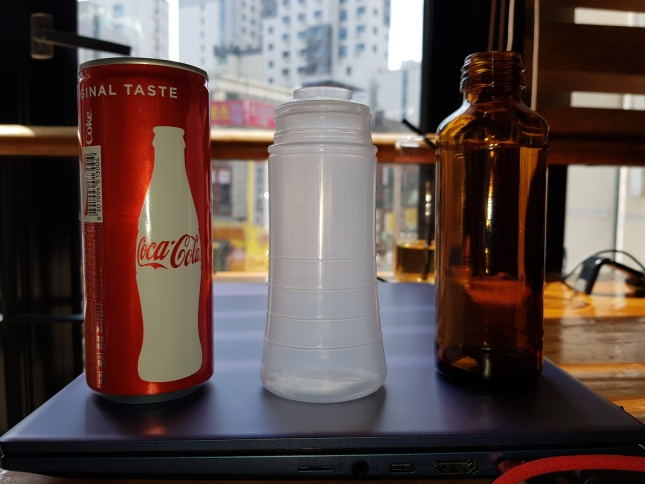Can: (75, 55, 217, 404)
Glass: (428, 48, 553, 394)
Plastic: (259, 96, 389, 405)
